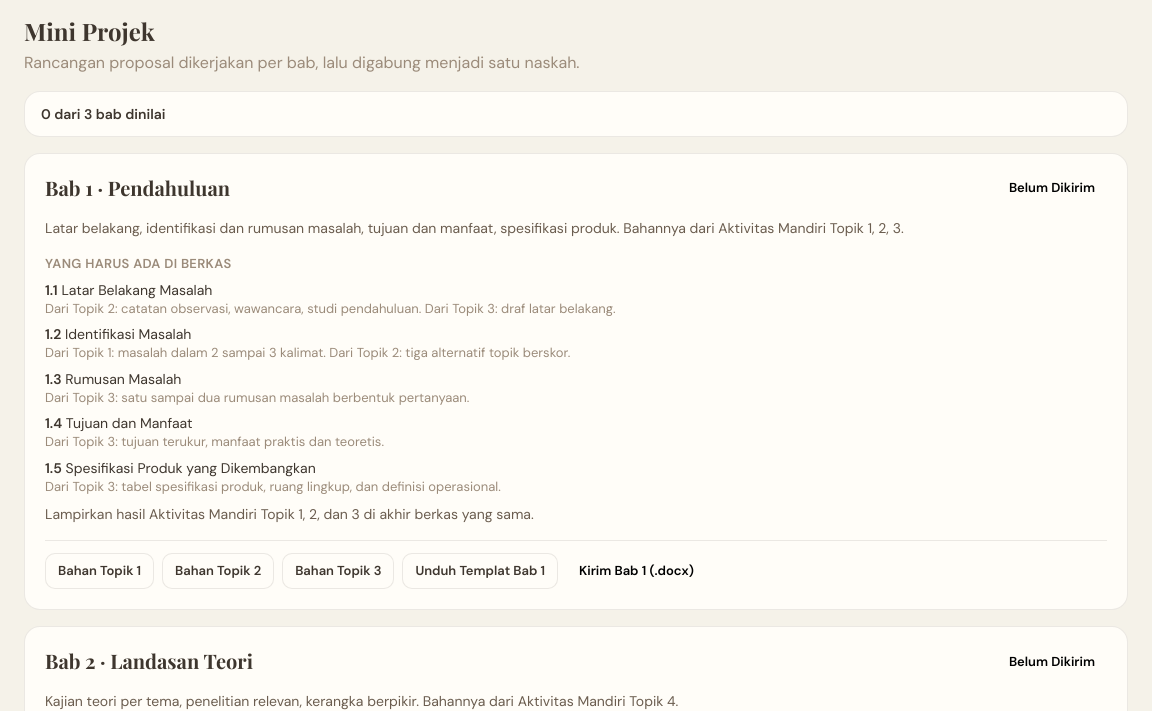
Test: MiniProjek › langkah tautan prototipe hanya muncul di bab yang butuh tautan
Click the button "Kirim Bab 1 (.docx)".
click(636, 571)  # box 566,553 -> 707,589
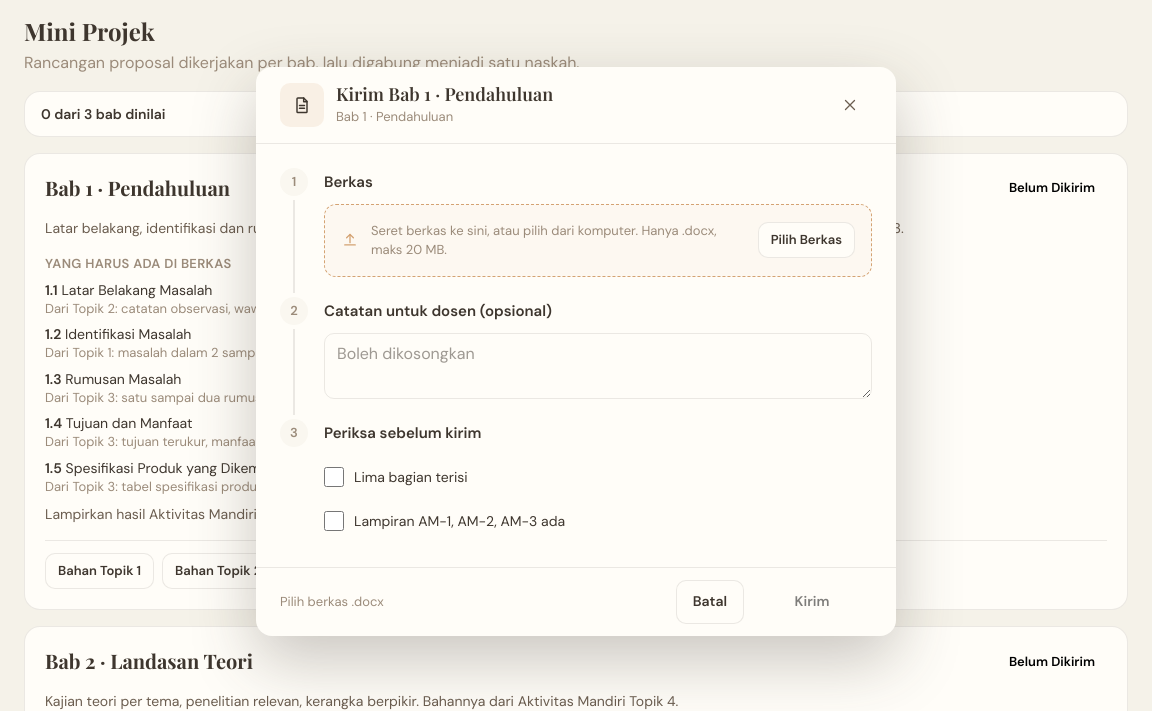
Check: the field with placeholder "https://" is not shown
Click the button "Batal".
click(710, 602)  # box 676,580 -> 744,624
(page scrolled)
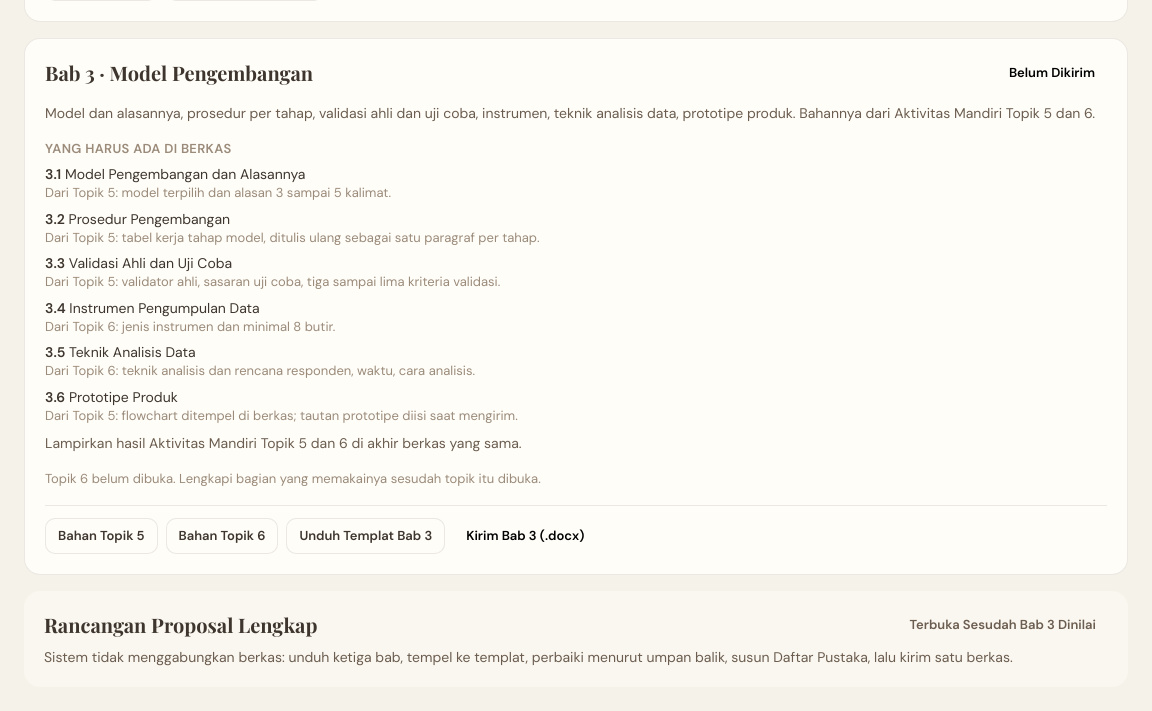
Click the button "Kirim Bab 3 (.docx)".
click(525, 536)  # box 453,518 -> 597,554
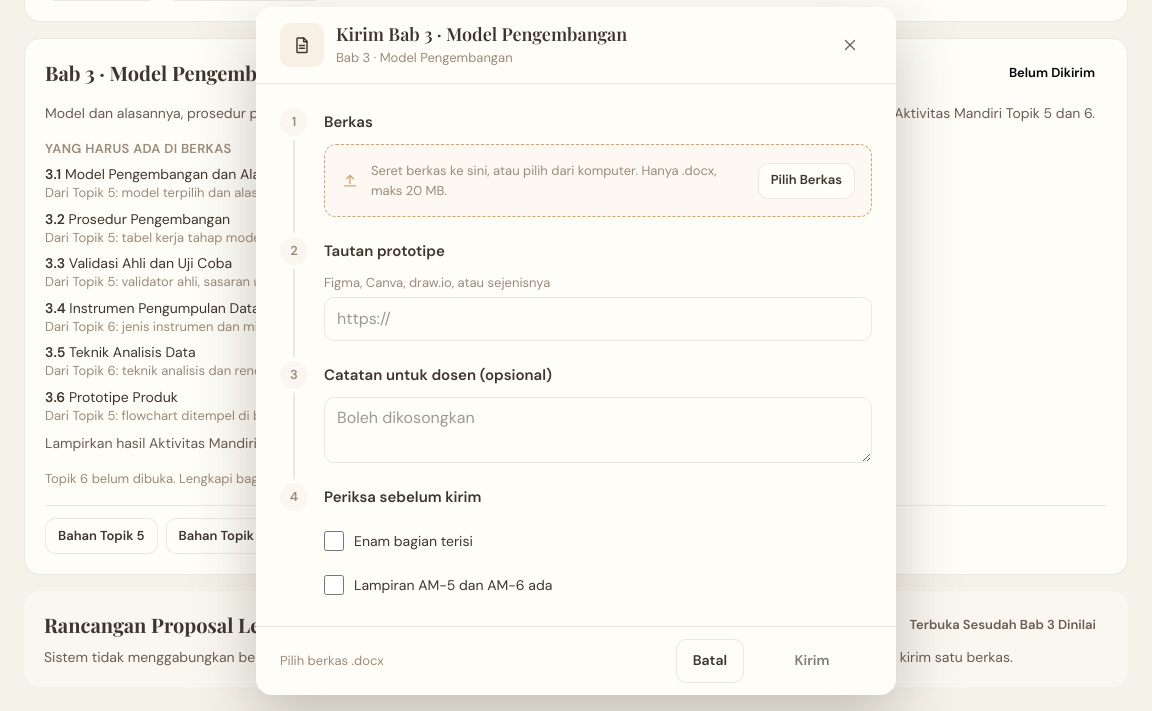
Check: the text "Tautan prototipe" is shown, box 324,241 -> 445,261
